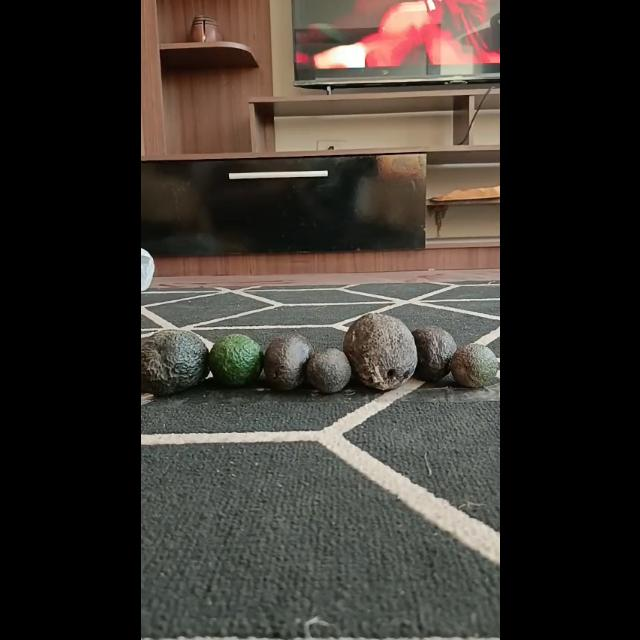Primera: (342, 312, 416, 390), (140, 329, 208, 396)
Segunda: (262, 332, 312, 390), (208, 334, 262, 386), (409, 325, 456, 381)
Tercera: (305, 348, 351, 394), (449, 344, 497, 388)
